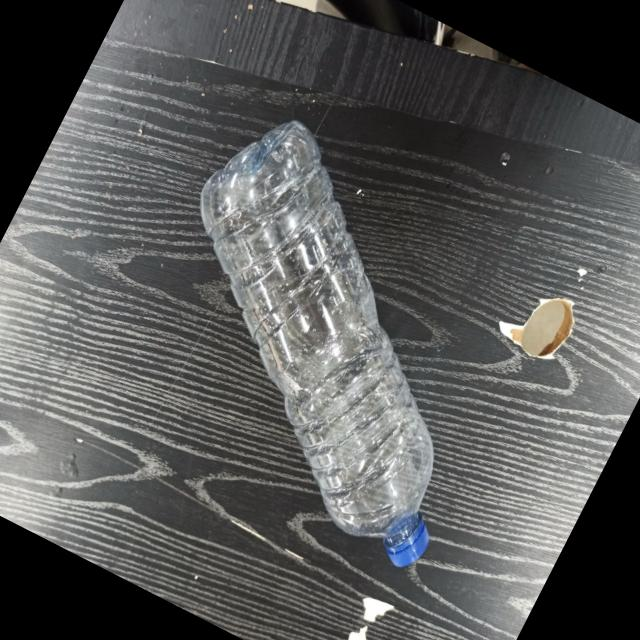BotolPlastik: (87, 95, 573, 578)
